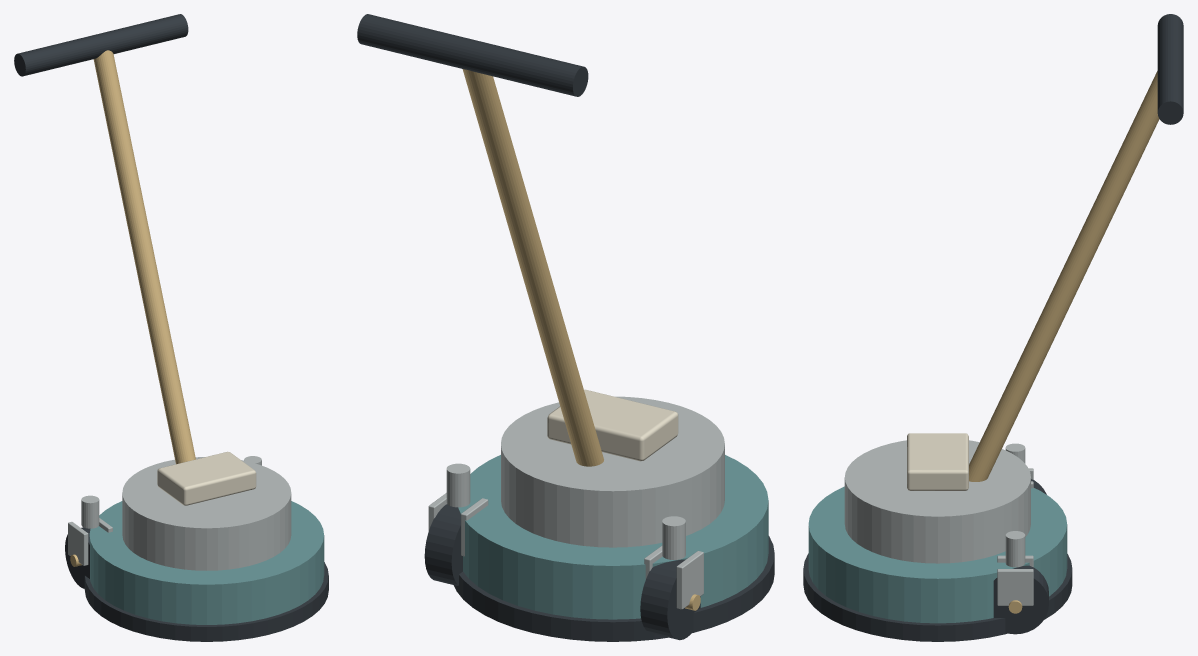
File: abandoned-cinema-and-projection-booth-abandoned-cinema-0828a84a__29731.glb
3 views of the same model, side by side, from view 1: azimuth 30°, elevation 25°; view 2: azimuth 150°, elevation 25°; view 3: azimuth 270°, elevation 25° (orthographic). The views are drawn at different scales.
Visible parts, largest first — view 1: abandoned-cinema-and-projection-booth-floor-polisher; view 2: abandoned-cinema-and-projection-booth-floor-polisher; view 3: abandoned-cinema-and-projection-booth-floor-polisher.
Boxes of the visible parts, <box> form: abandoned-cinema-and-projection-booth-floor-polisher: <box>14,14,328,641</box>; abandoned-cinema-and-projection-booth-floor-polisher: <box>357,14,774,641</box>; abandoned-cinema-and-projection-booth-floor-polisher: <box>803,14,1183,641</box>.
Bounding box in the file's own units: 0.52 × 1.13 × 0.7349.
